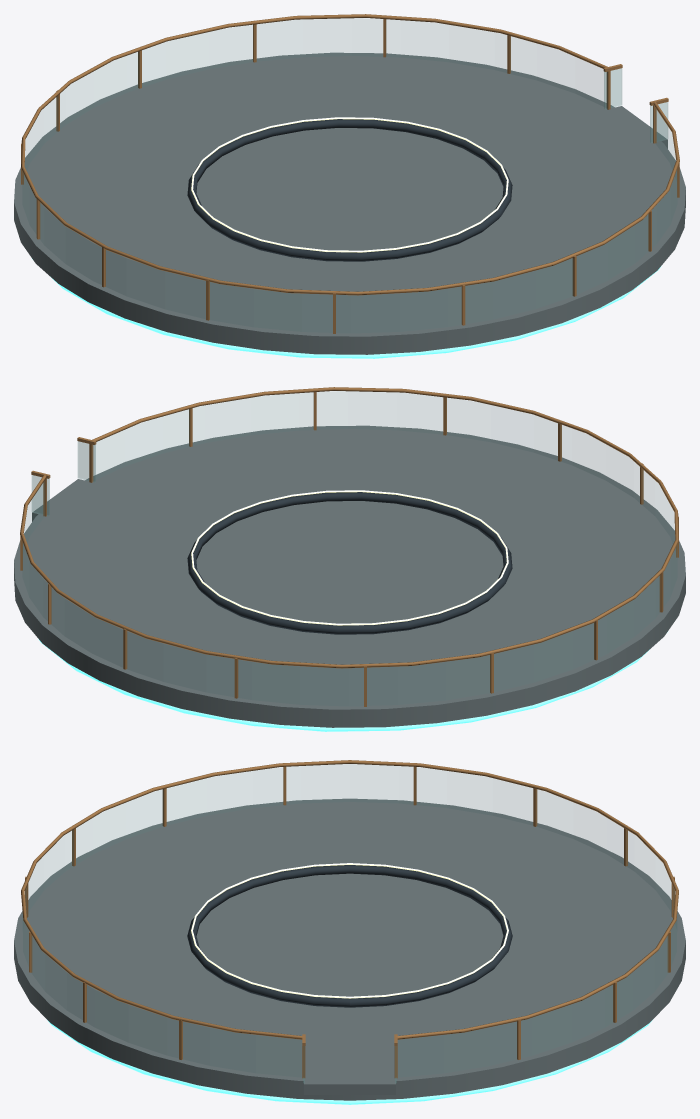
Rendered from sky-deck.lod1.glb.
3 views of the same model, one above another, from view 1: azimuth 30°, elevation 25°; view 2: azimuth 150°, elevation 25°; view 3: azimuth 270°, elevation 25° (orthographic).
Visible parts, largest first — view 1: structure; view 2: structure; view 3: structure.
Part boxes in pixels (bbox=[...]): structure: bbox=[14, 14, 685, 358]; structure: bbox=[14, 387, 685, 731]; structure: bbox=[14, 760, 685, 1104].
Size of the model in its own units: 16.9 by 2.85 by 16.8.
